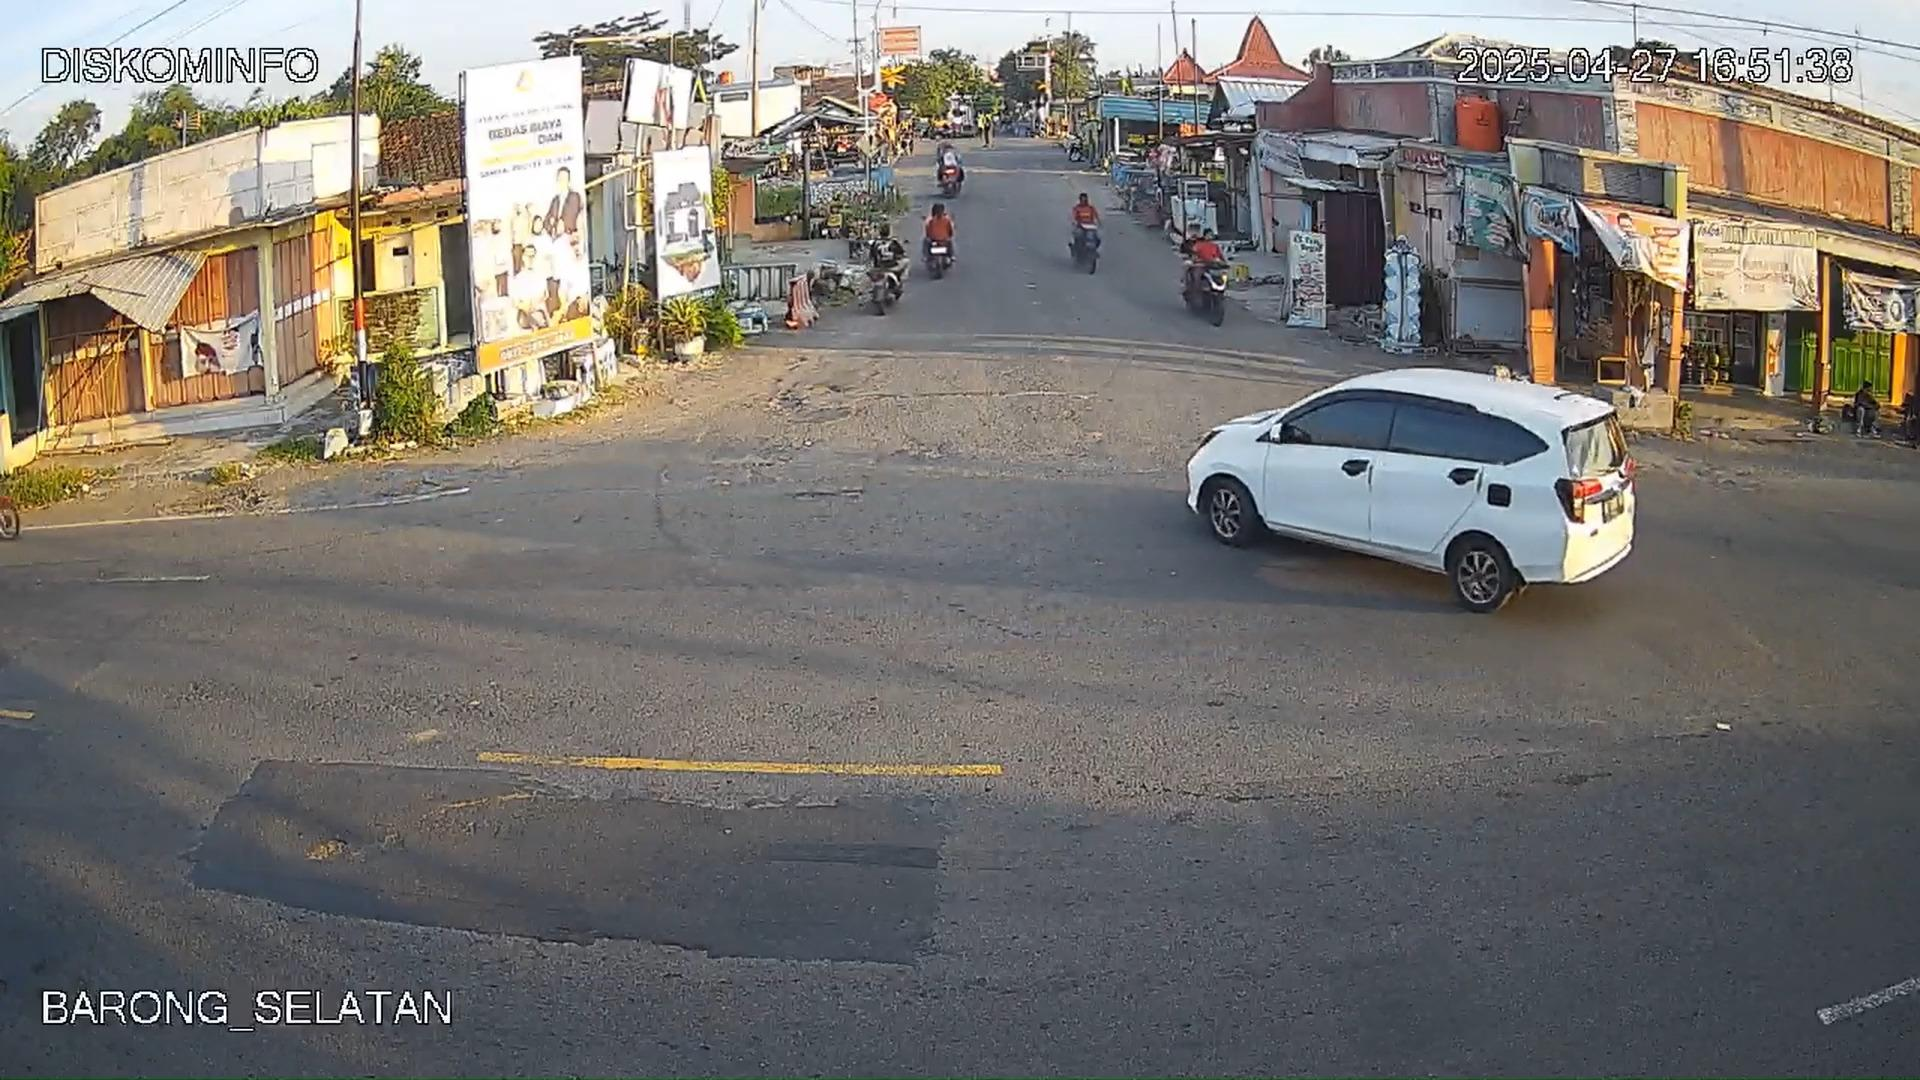mobil: (1188, 364, 1631, 609)
